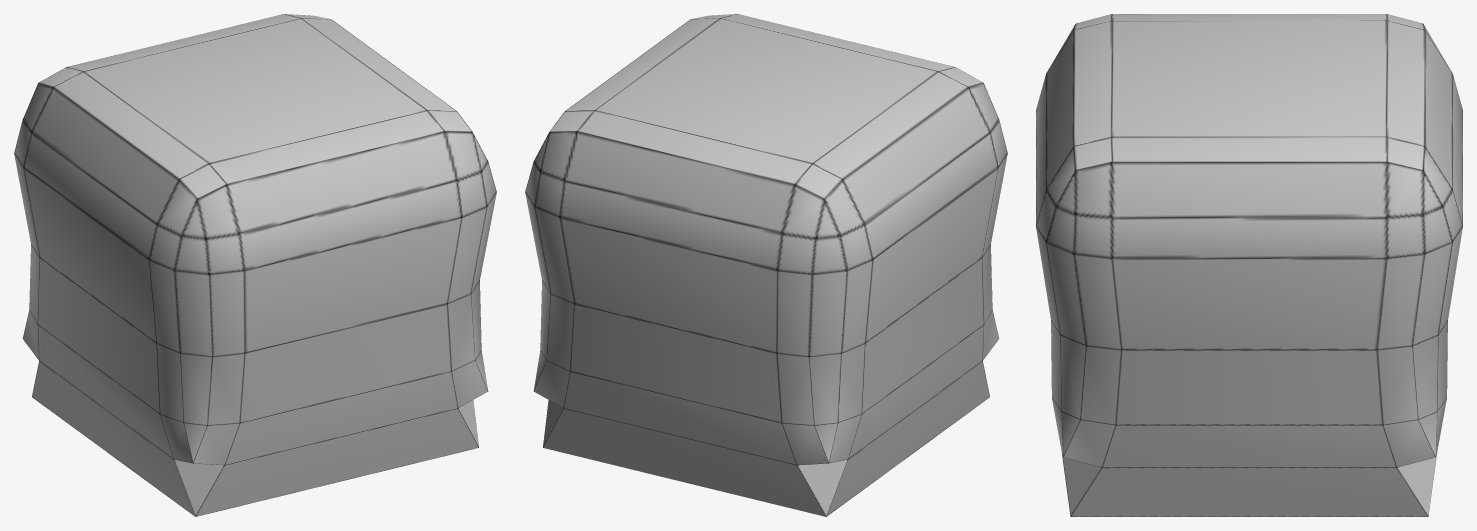
The model's file is blockNormal.obj.
3 views of the same model, side by side, from view 1: azimuth 30°, elevation 25°; view 2: azimuth 150°, elevation 25°; view 3: azimuth 270°, elevation 25° (orthographic). The views are drawn at different scales.
Parts seen in each view (by area): view 1: Cube.006; view 2: Cube.006; view 3: Cube.006.
Boxes of the visible parts, left/top/right/bottom form: Cube.006: left=14, top=14, right=496, bottom=516; Cube.006: left=525, top=14, right=1007, bottom=516; Cube.006: left=1036, top=14, right=1462, bottom=516.
Bounding box in the file's own units: 1.08 × 1.01 × 1.08.
1 material, 1 textured.
